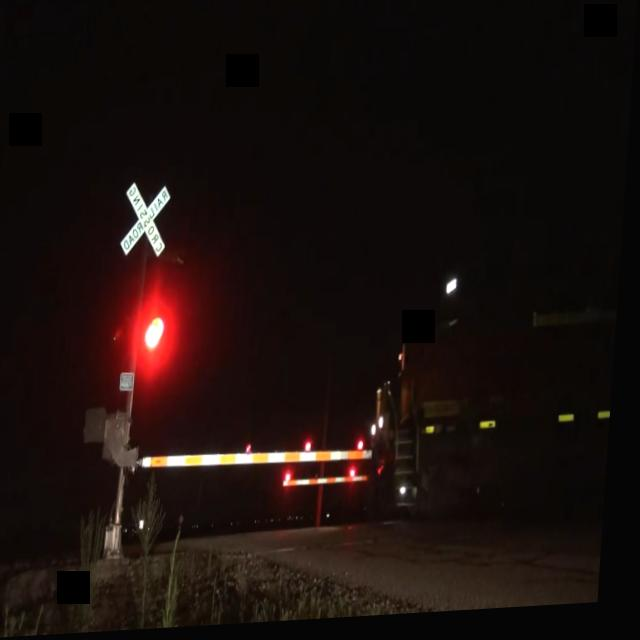locomotive: (358, 239, 626, 546)
